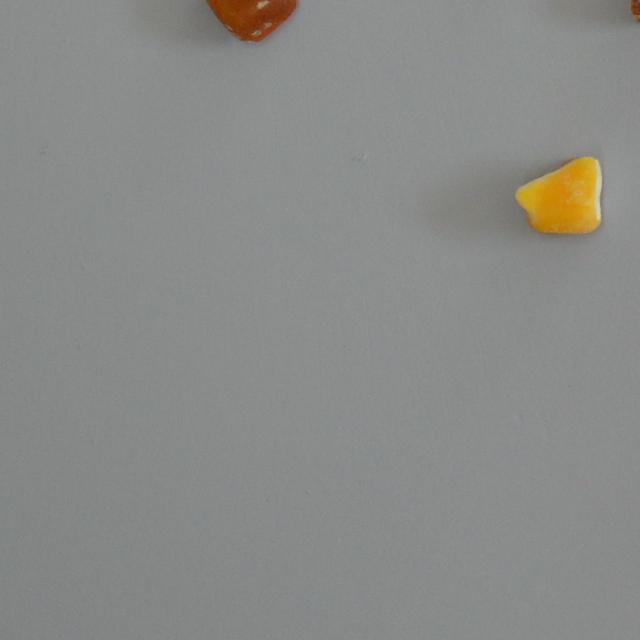dañado: (512, 150, 607, 240), (194, 0, 298, 50)
